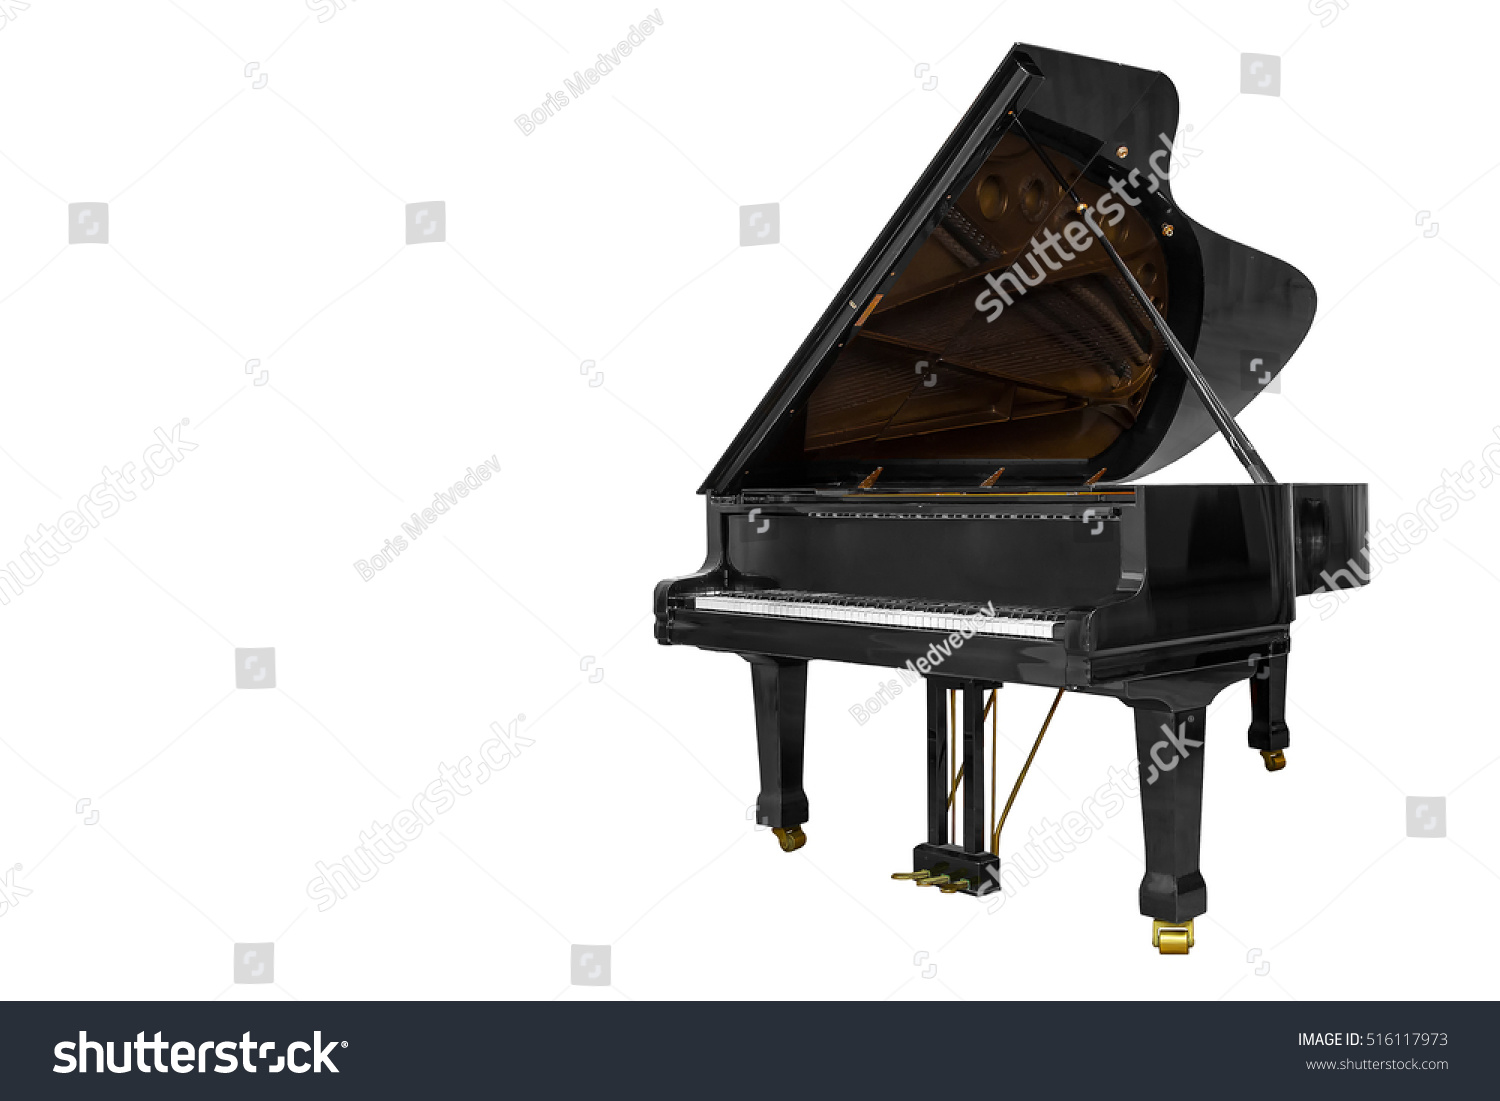Piano: (603, 83, 1500, 898)
